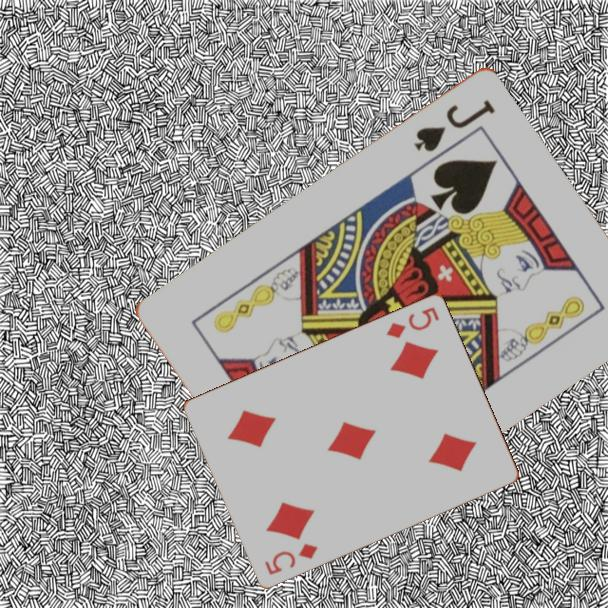d05: (261, 539, 321, 577), (383, 303, 442, 341)
s11: (410, 95, 499, 155)
